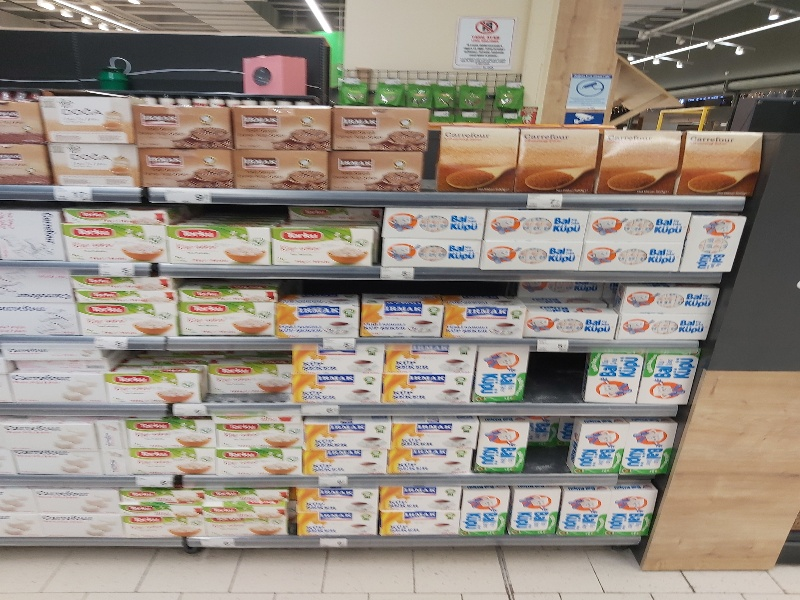product: (435, 118, 520, 192), (515, 117, 600, 191), (598, 119, 683, 193), (682, 120, 767, 194), (129, 92, 232, 149), (168, 218, 274, 270), (274, 216, 380, 268), (37, 91, 132, 149), (230, 100, 332, 150), (327, 100, 429, 150), (62, 218, 166, 265), (73, 296, 178, 339), (7, 363, 110, 405), (177, 294, 277, 337), (382, 205, 489, 244), (207, 412, 308, 451), (107, 442, 217, 477), (683, 214, 748, 273), (472, 342, 530, 408), (379, 235, 484, 270), (485, 205, 590, 240), (480, 236, 585, 271), (584, 210, 689, 245), (579, 237, 684, 272), (273, 297, 362, 338), (1, 509, 123, 538), (1, 485, 123, 514), (358, 297, 446, 337), (440, 301, 528, 341), (1, 415, 97, 451), (619, 283, 720, 316), (293, 339, 389, 373), (381, 343, 477, 377), (379, 341, 475, 375), (290, 371, 386, 405), (204, 358, 300, 392), (107, 367, 203, 401), (1, 297, 80, 338), (639, 353, 697, 407), (587, 350, 645, 404), (120, 417, 220, 448), (474, 418, 530, 473), (570, 417, 626, 472), (621, 418, 677, 473), (213, 445, 304, 478), (298, 416, 394, 447), (386, 420, 482, 451), (525, 307, 616, 339), (616, 308, 707, 340), (7, 449, 111, 477), (378, 482, 469, 513), (386, 444, 479, 473), (299, 446, 392, 475), (608, 482, 655, 537), (559, 483, 606, 538), (378, 505, 464, 534), (295, 484, 381, 513), (295, 507, 381, 536), (508, 485, 556, 534), (460, 484, 508, 533), (203, 509, 290, 535), (204, 488, 296, 511), (115, 488, 207, 511), (117, 513, 201, 538)
